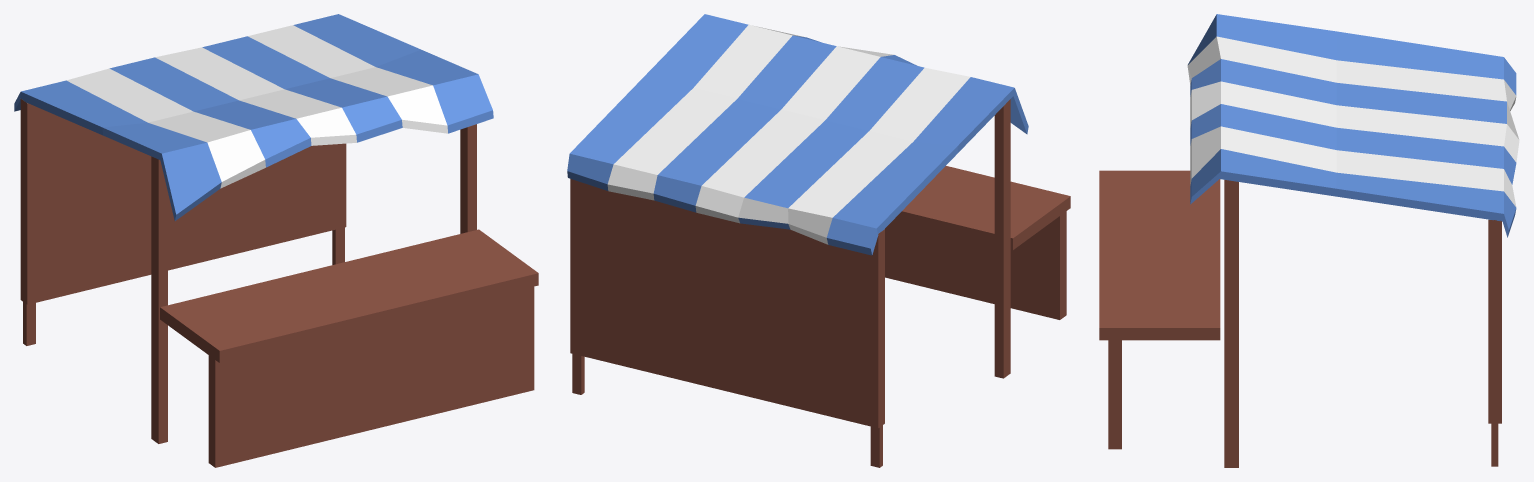
Rendered from market stand.fbx.
The picture shows the model from 3 angles, left to right: view 1: azimuth 30°, elevation 25°; view 2: azimuth 150°, elevation 25°; view 3: azimuth 270°, elevation 25°; orthographic projection. The views are drawn at different scales.
Visible parts, largest first — view 1: Cube.014; view 2: Cube.014; view 3: Cube.014.
Part boxes in pixels (box(x1,y1,x2,y2)): Cube.014: box(14, 14, 538, 467); Cube.014: box(567, 14, 1070, 467); Cube.014: box(1099, 14, 1519, 467).
Size of the model in its own units: 232 by 204 by 261.
